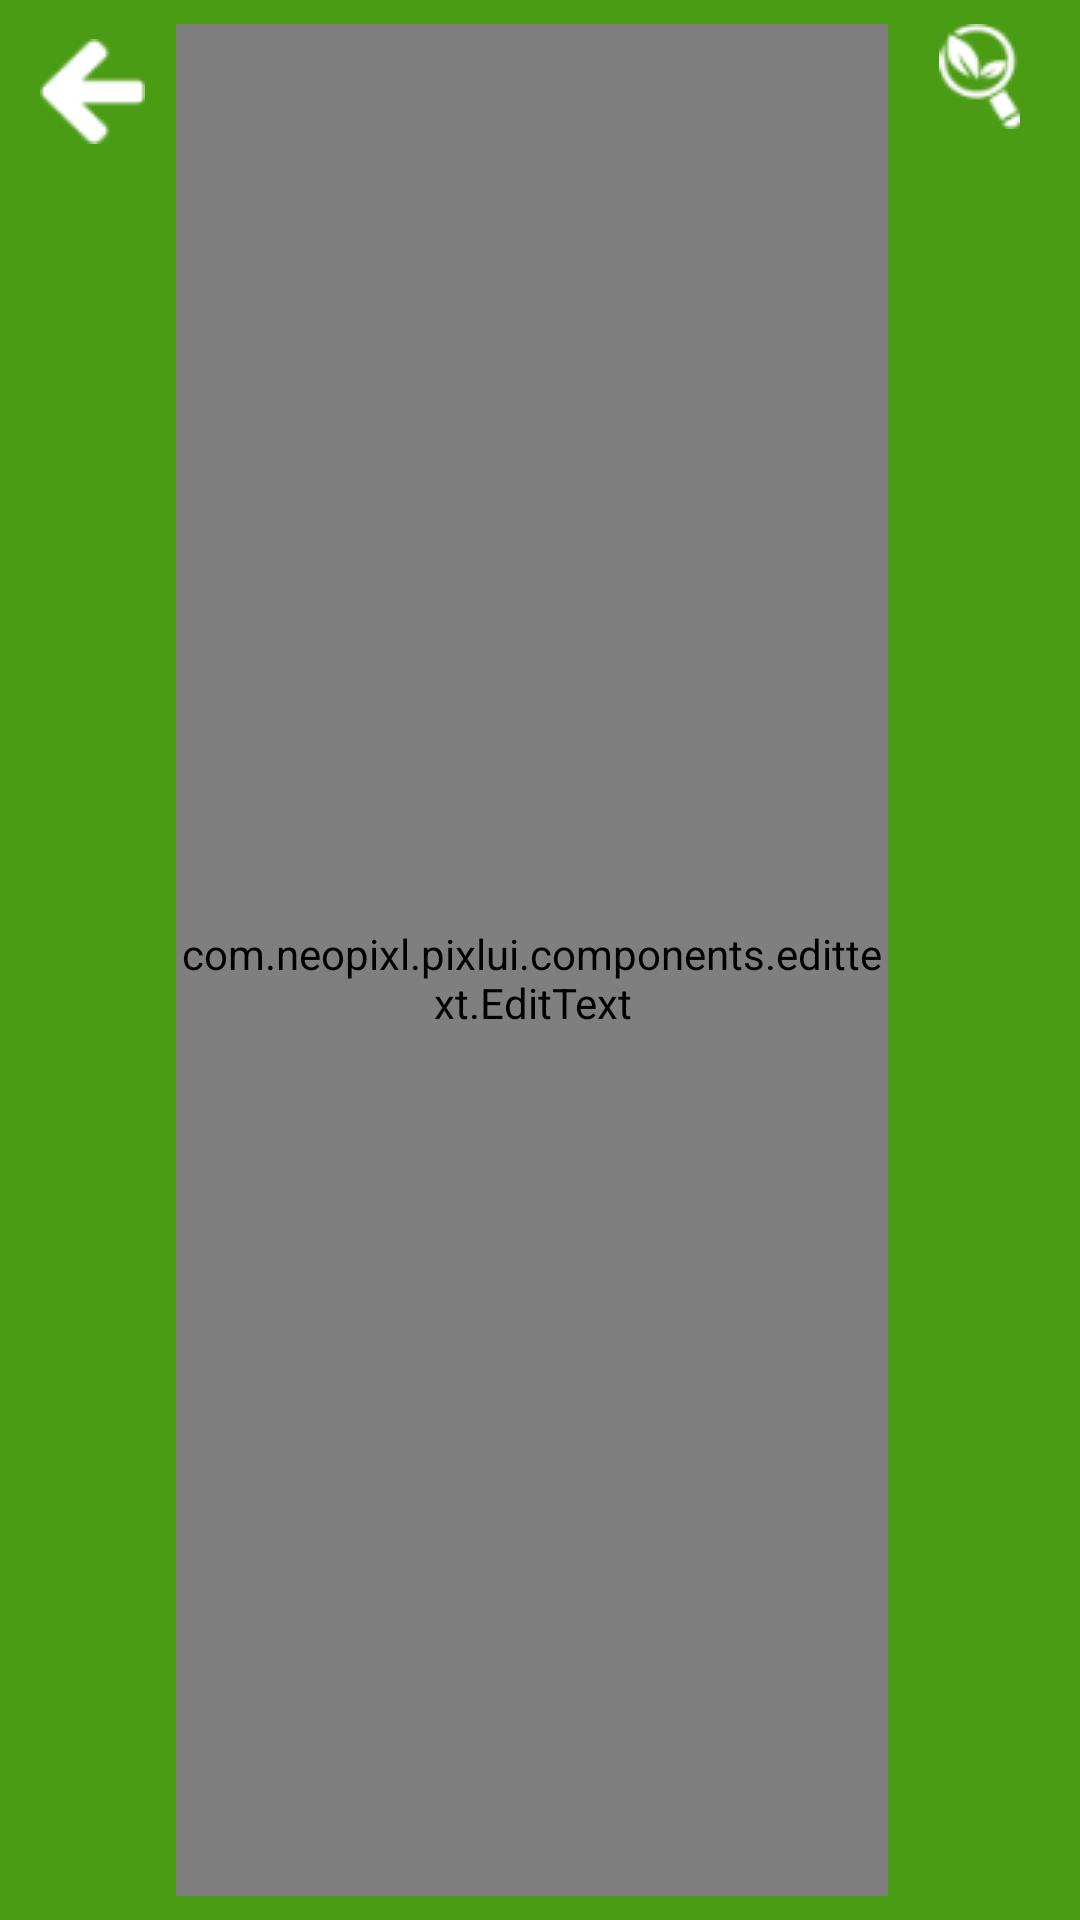

Screen size 1080×1920. Icon name, then its center in pixels as [x,y]:
back: [92,91]
